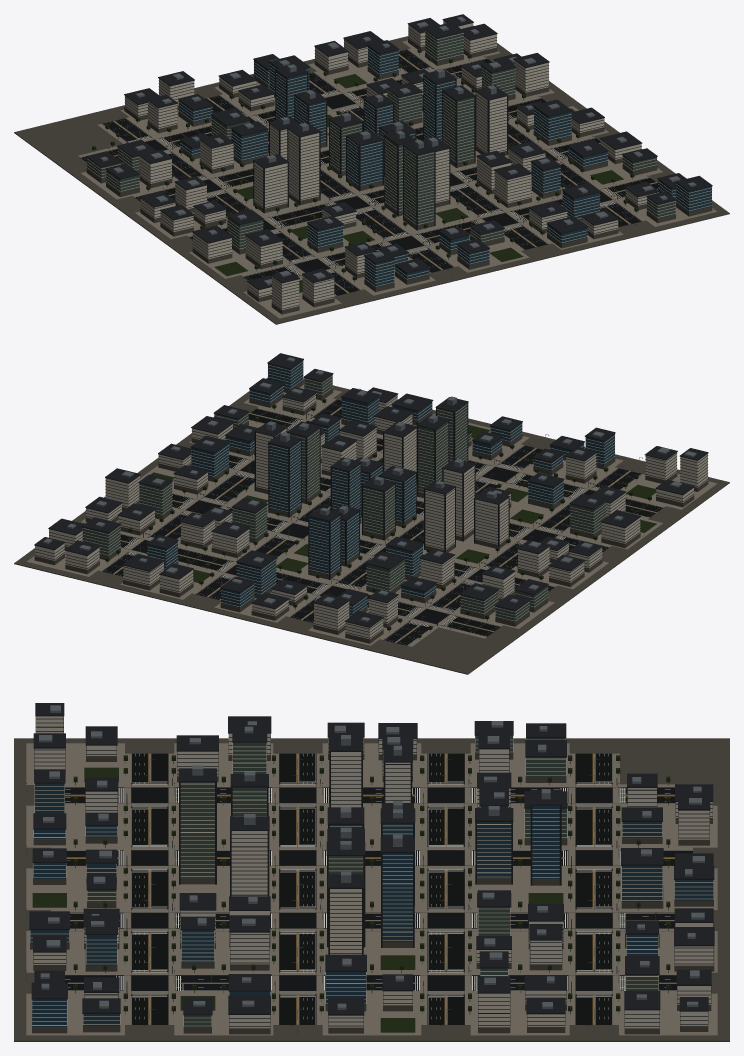
File: racing_city.fbx
3 views of the same model, one above another, from view 1: azimuth 30°, elevation 25°; view 2: azimuth 150°, elevation 25°; view 3: azimuth 270°, elevation 25° (orthographic). The views are drawn at different scales.
Visible parts, largest first — view 1: ground_plane, roadway_north_south, block_plazas, sidewalks, roadway_east_west, block_planting, building_18_shell, street_tree_canopies, lane_markings_white, building_7_shell, building_24_shell, curbs (+40 smaller); view 2: ground_plane, roadway_north_south, sidewalks, block_plazas, roadway_east_west, block_planting, building_23_shell, lane_markings_white, street_tree_canopies, curbs, building_10_shell, building_16_shell (+44 smaller); view 3: block_plazas, roadway_east_west, ground_plane, sidewalks, roadway_north_south, lane_markings_white, street_tree_canopies, curbs, building_18_shell, medians, building_23_shell, block_planting (+69 smaller).
Boxes of the visible parts, bbox=[...] form: ground_plane: bbox=[14, 25, 729, 324]; roadway_north_south: bbox=[102, 49, 641, 295]; block_plazas: bbox=[81, 40, 717, 318]; sidewalks: bbox=[78, 48, 657, 296]; roadway_east_west: bbox=[81, 58, 658, 280]; block_planting: bbox=[214, 74, 623, 292]; building_18_shell: bbox=[404, 146, 434, 225]; street_tree_canopies: bbox=[92, 48, 638, 280]; lane_markings_white: bbox=[104, 50, 647, 294]; building_7_shell: bbox=[288, 129, 319, 200]; building_24_shell: bbox=[443, 92, 474, 163]; curbs: bbox=[80, 49, 649, 295]; ground_plane: bbox=[14, 377, 729, 674]; roadway_north_south: bbox=[102, 399, 641, 645]; sidewalks: bbox=[97, 398, 665, 646]; block_plazas: bbox=[26, 382, 717, 645]; roadway_east_west: bbox=[120, 408, 662, 636]; block_planting: bbox=[150, 425, 656, 582]; building_23_shell: bbox=[269, 440, 300, 512]; lane_markings_white: bbox=[102, 402, 655, 644]; street_tree_canopies: bbox=[105, 398, 651, 637]; curbs: bbox=[102, 399, 662, 645]; building_10_shell: bbox=[309, 514, 340, 575]; building_16_shell: bbox=[418, 421, 448, 493]; block_plazas: bbox=[26, 743, 717, 1035]; roadway_east_west: bbox=[131, 753, 612, 1024]; ground_plane: bbox=[14, 738, 729, 1041]; sidewalks: bbox=[51, 753, 692, 1024]; roadway_north_south: bbox=[65, 787, 692, 990]; lane_markings_white: bbox=[65, 754, 692, 1024]; street_tree_canopies: bbox=[73, 755, 670, 1011]; curbs: bbox=[65, 754, 692, 1024]; building_18_shell: bbox=[180, 782, 214, 878]; medians: bbox=[65, 753, 676, 1024]; building_23_shell: bbox=[382, 853, 412, 941]; block_planting: bbox=[32, 767, 659, 1032].
Bounding box in the file's own units: 580 × 101 × 580.
